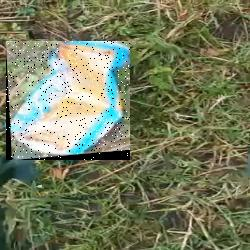metal: (6, 41, 130, 160)
